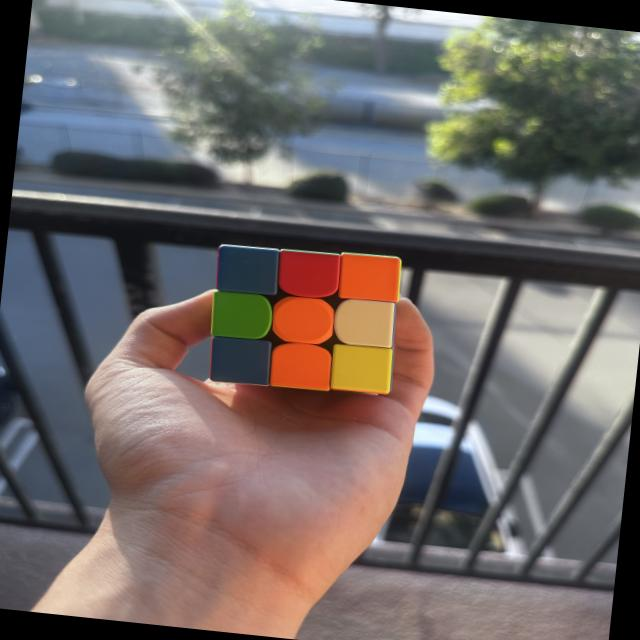sticker: (332, 249, 403, 307), (212, 242, 284, 299), (272, 246, 342, 304), (329, 294, 398, 350), (268, 293, 338, 348), (204, 334, 274, 389), (326, 342, 396, 396), (266, 339, 336, 393), (208, 290, 275, 344)
